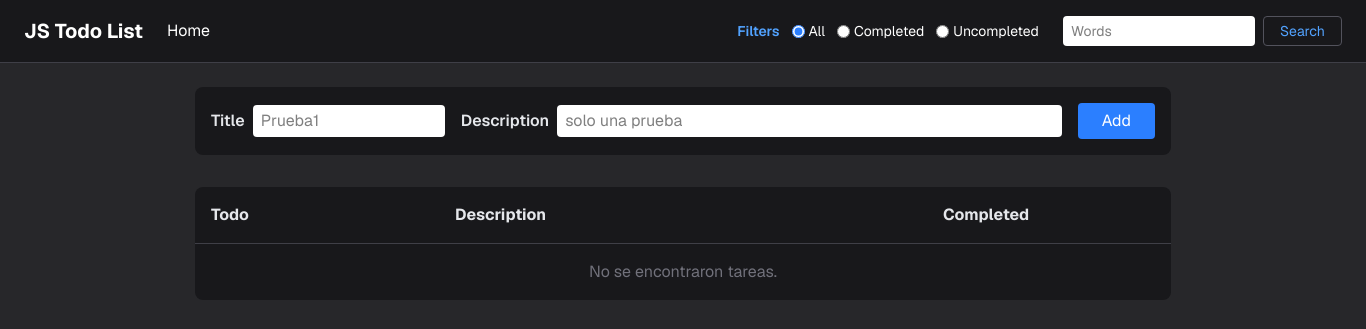
Test: Página Principal - Sprint 1 y 2 › permite agregar una tarea y la guarda en localStorage
# Simulamos que el usuario escribe y hace clic
In the field with placeholder "Prueba1": (349, 121) 253,105 -> 445,137, type "Aprender TDD"
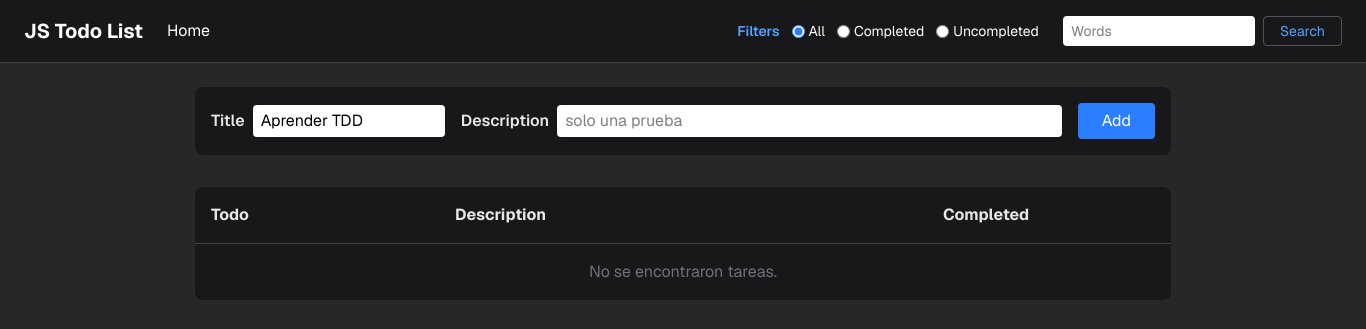
In the field with placeholder "solo una prueba": (809, 121) 557,105 -> 1062,137, type "Escribir mi primera prueba"
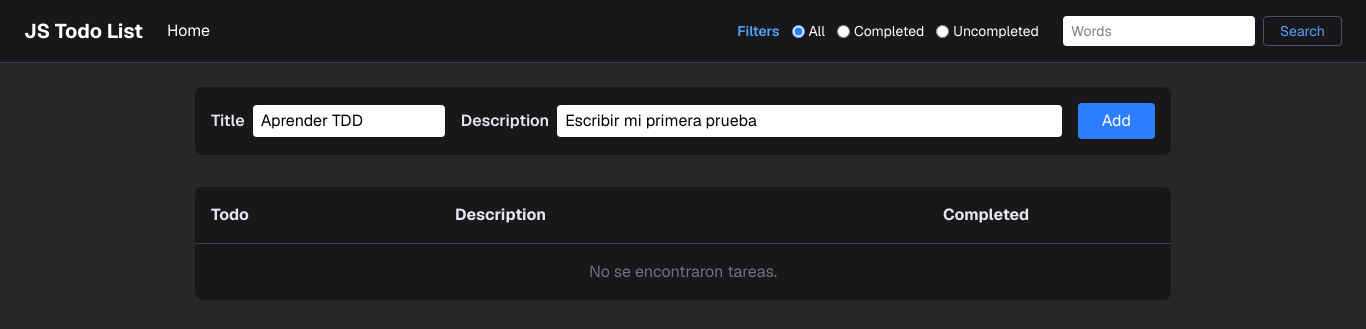
Click the button "Add": (1116, 121) 1078,103 -> 1155,139
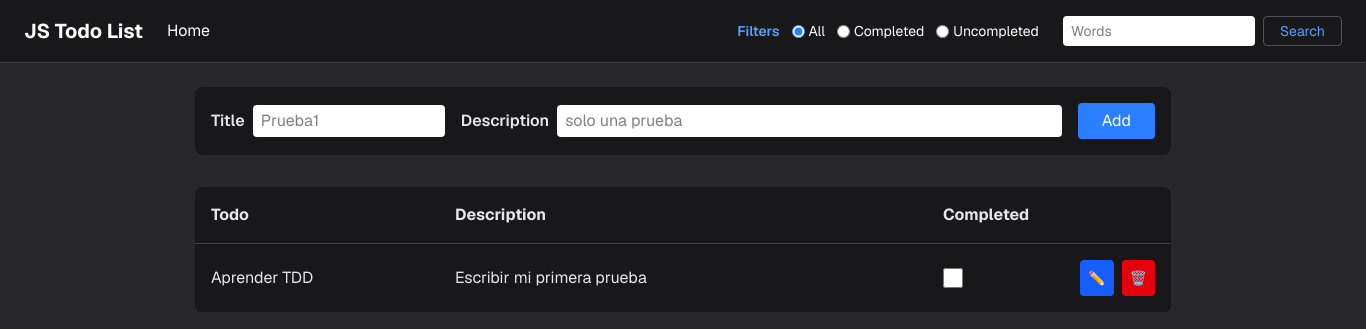
Expected: the text "Aprender TDD" is shown, 195,244 -> 439,312
Expected: the text "Escribir mi primera prueba" is shown, 439,244 -> 927,312
